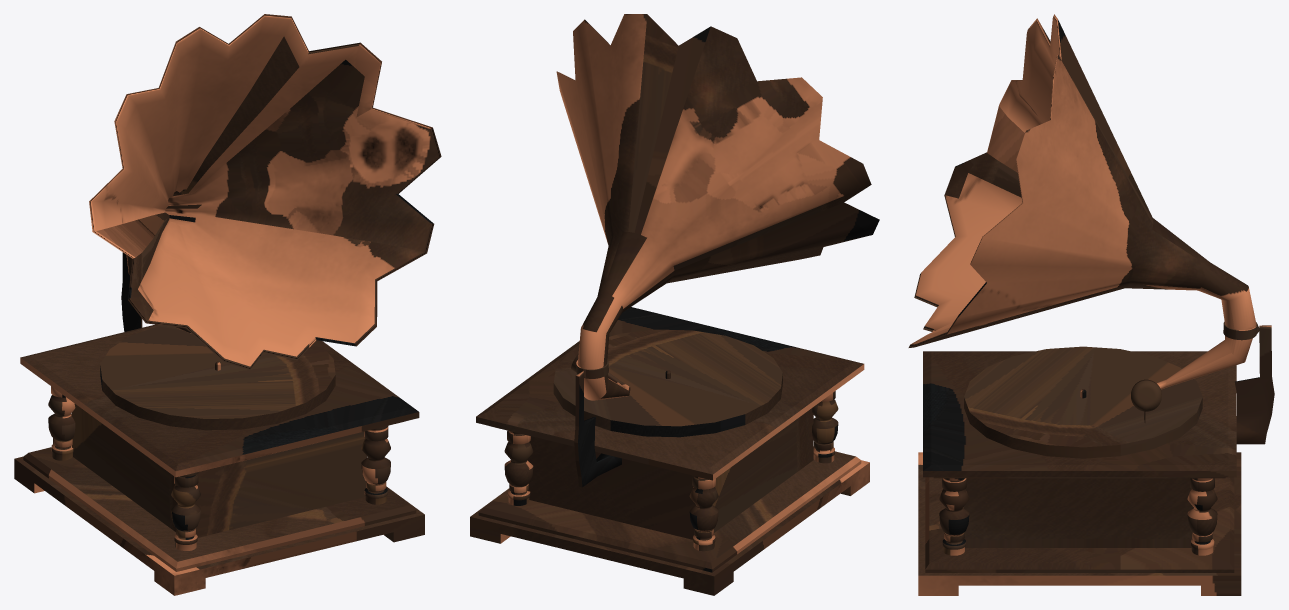
The model's file is PhonographBody (1).fbx.
The picture shows the model from 3 angles, left to right: view 1: azimuth 30°, elevation 25°; view 2: azimuth 150°, elevation 25°; view 3: azimuth 270°, elevation 25°; orthographic projection. The views are drawn at different scales.
Parts seen in each view (by area): view 1: AnyConv.com__PhonographUVFix (1); view 2: AnyConv.com__PhonographUVFix (1); view 3: AnyConv.com__PhonographUVFix (1).
Boxes of the visible parts, x1,y1,x2,y2 form: AnyConv.com__PhonographUVFix (1): (14,14,441,595); AnyConv.com__PhonographUVFix (1): (470,14,879,595); AnyConv.com__PhonographUVFix (1): (908,14,1274,595).
Bounding box in the file's own units: 1226 × 1735 × 1151.
